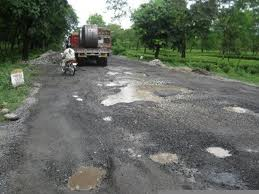pothole: (93, 73, 181, 103), (63, 159, 108, 189), (224, 95, 258, 118), (147, 145, 180, 165), (200, 138, 233, 156), (103, 62, 136, 75)
